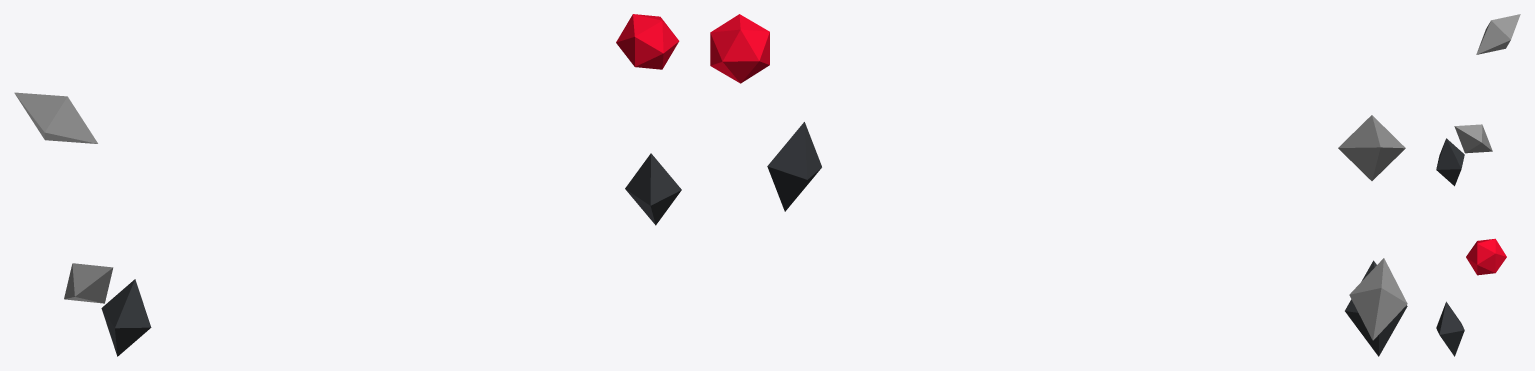
File: SM_Chr_Attach_Earrings_Female_03.fbx
3 views of the same model, side by side, from view 1: azimuth 30°, elevation 25°; view 2: azimuth 150°, elevation 25°; view 3: azimuth 270°, elevation 25° (orthographic). The views are drawn at different scales.
Parts seen in each view (by area): view 1: SM_Chr_Attach_Earrings_Female_03; view 2: SM_Chr_Attach_Earrings_Female_03; view 3: SM_Chr_Attach_Earrings_Female_03.
Boxes of the visible parts, left/top/right/bottom form: SM_Chr_Attach_Earrings_Female_03: left=14, top=14, right=681, bottom=356; SM_Chr_Attach_Earrings_Female_03: left=710, top=14, right=1407, bottom=356; SM_Chr_Attach_Earrings_Female_03: left=1436, top=14, right=1520, bottom=356.
Size of the model in its own units: 29.35 by 10.89 by 5.25.
